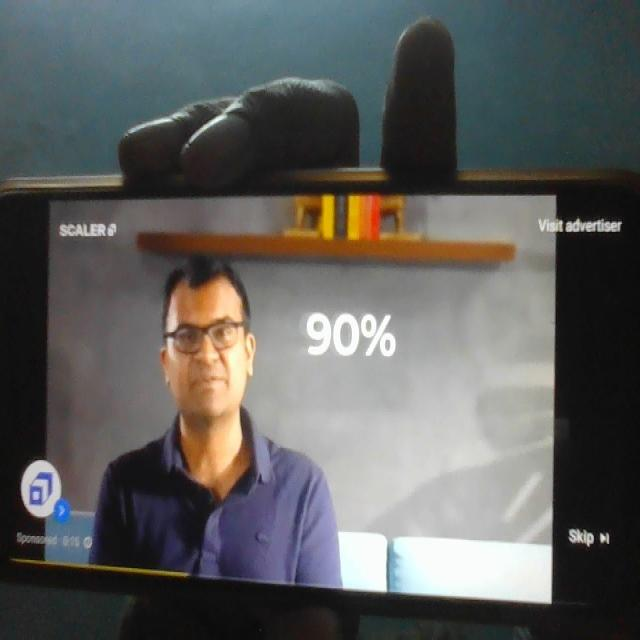fake: (151, 237, 260, 443)
